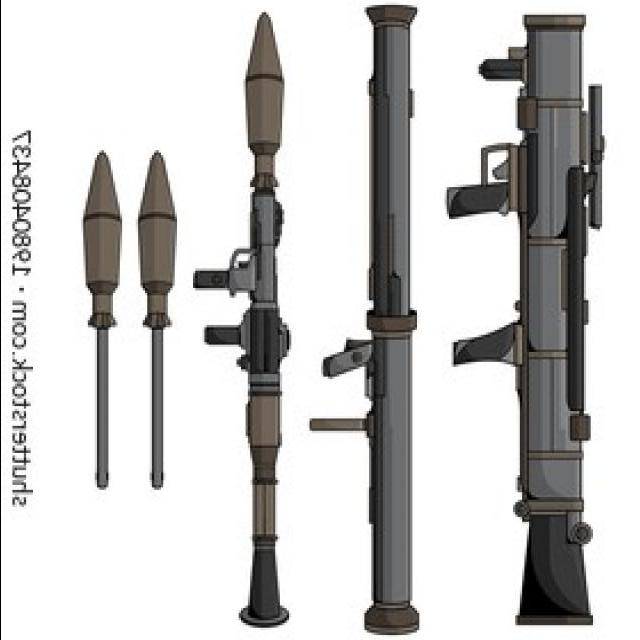rocket launcher: (444, 6, 624, 633), (315, 3, 433, 640), (196, 13, 299, 632)
